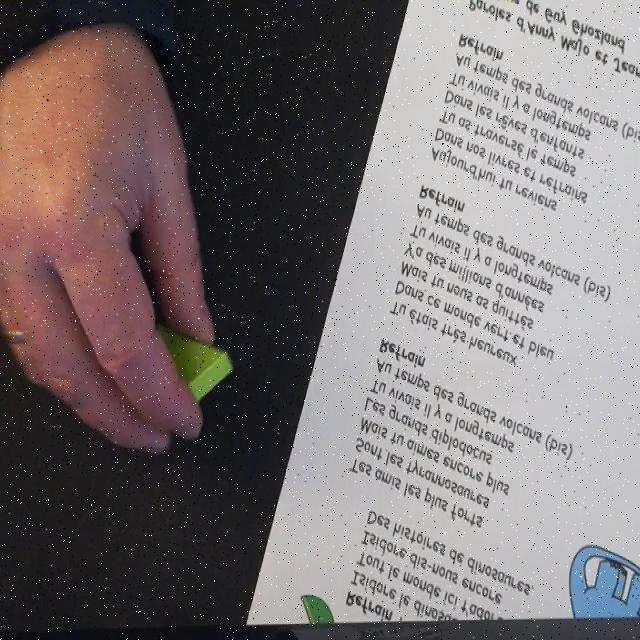triangle: (138, 325, 233, 422)
